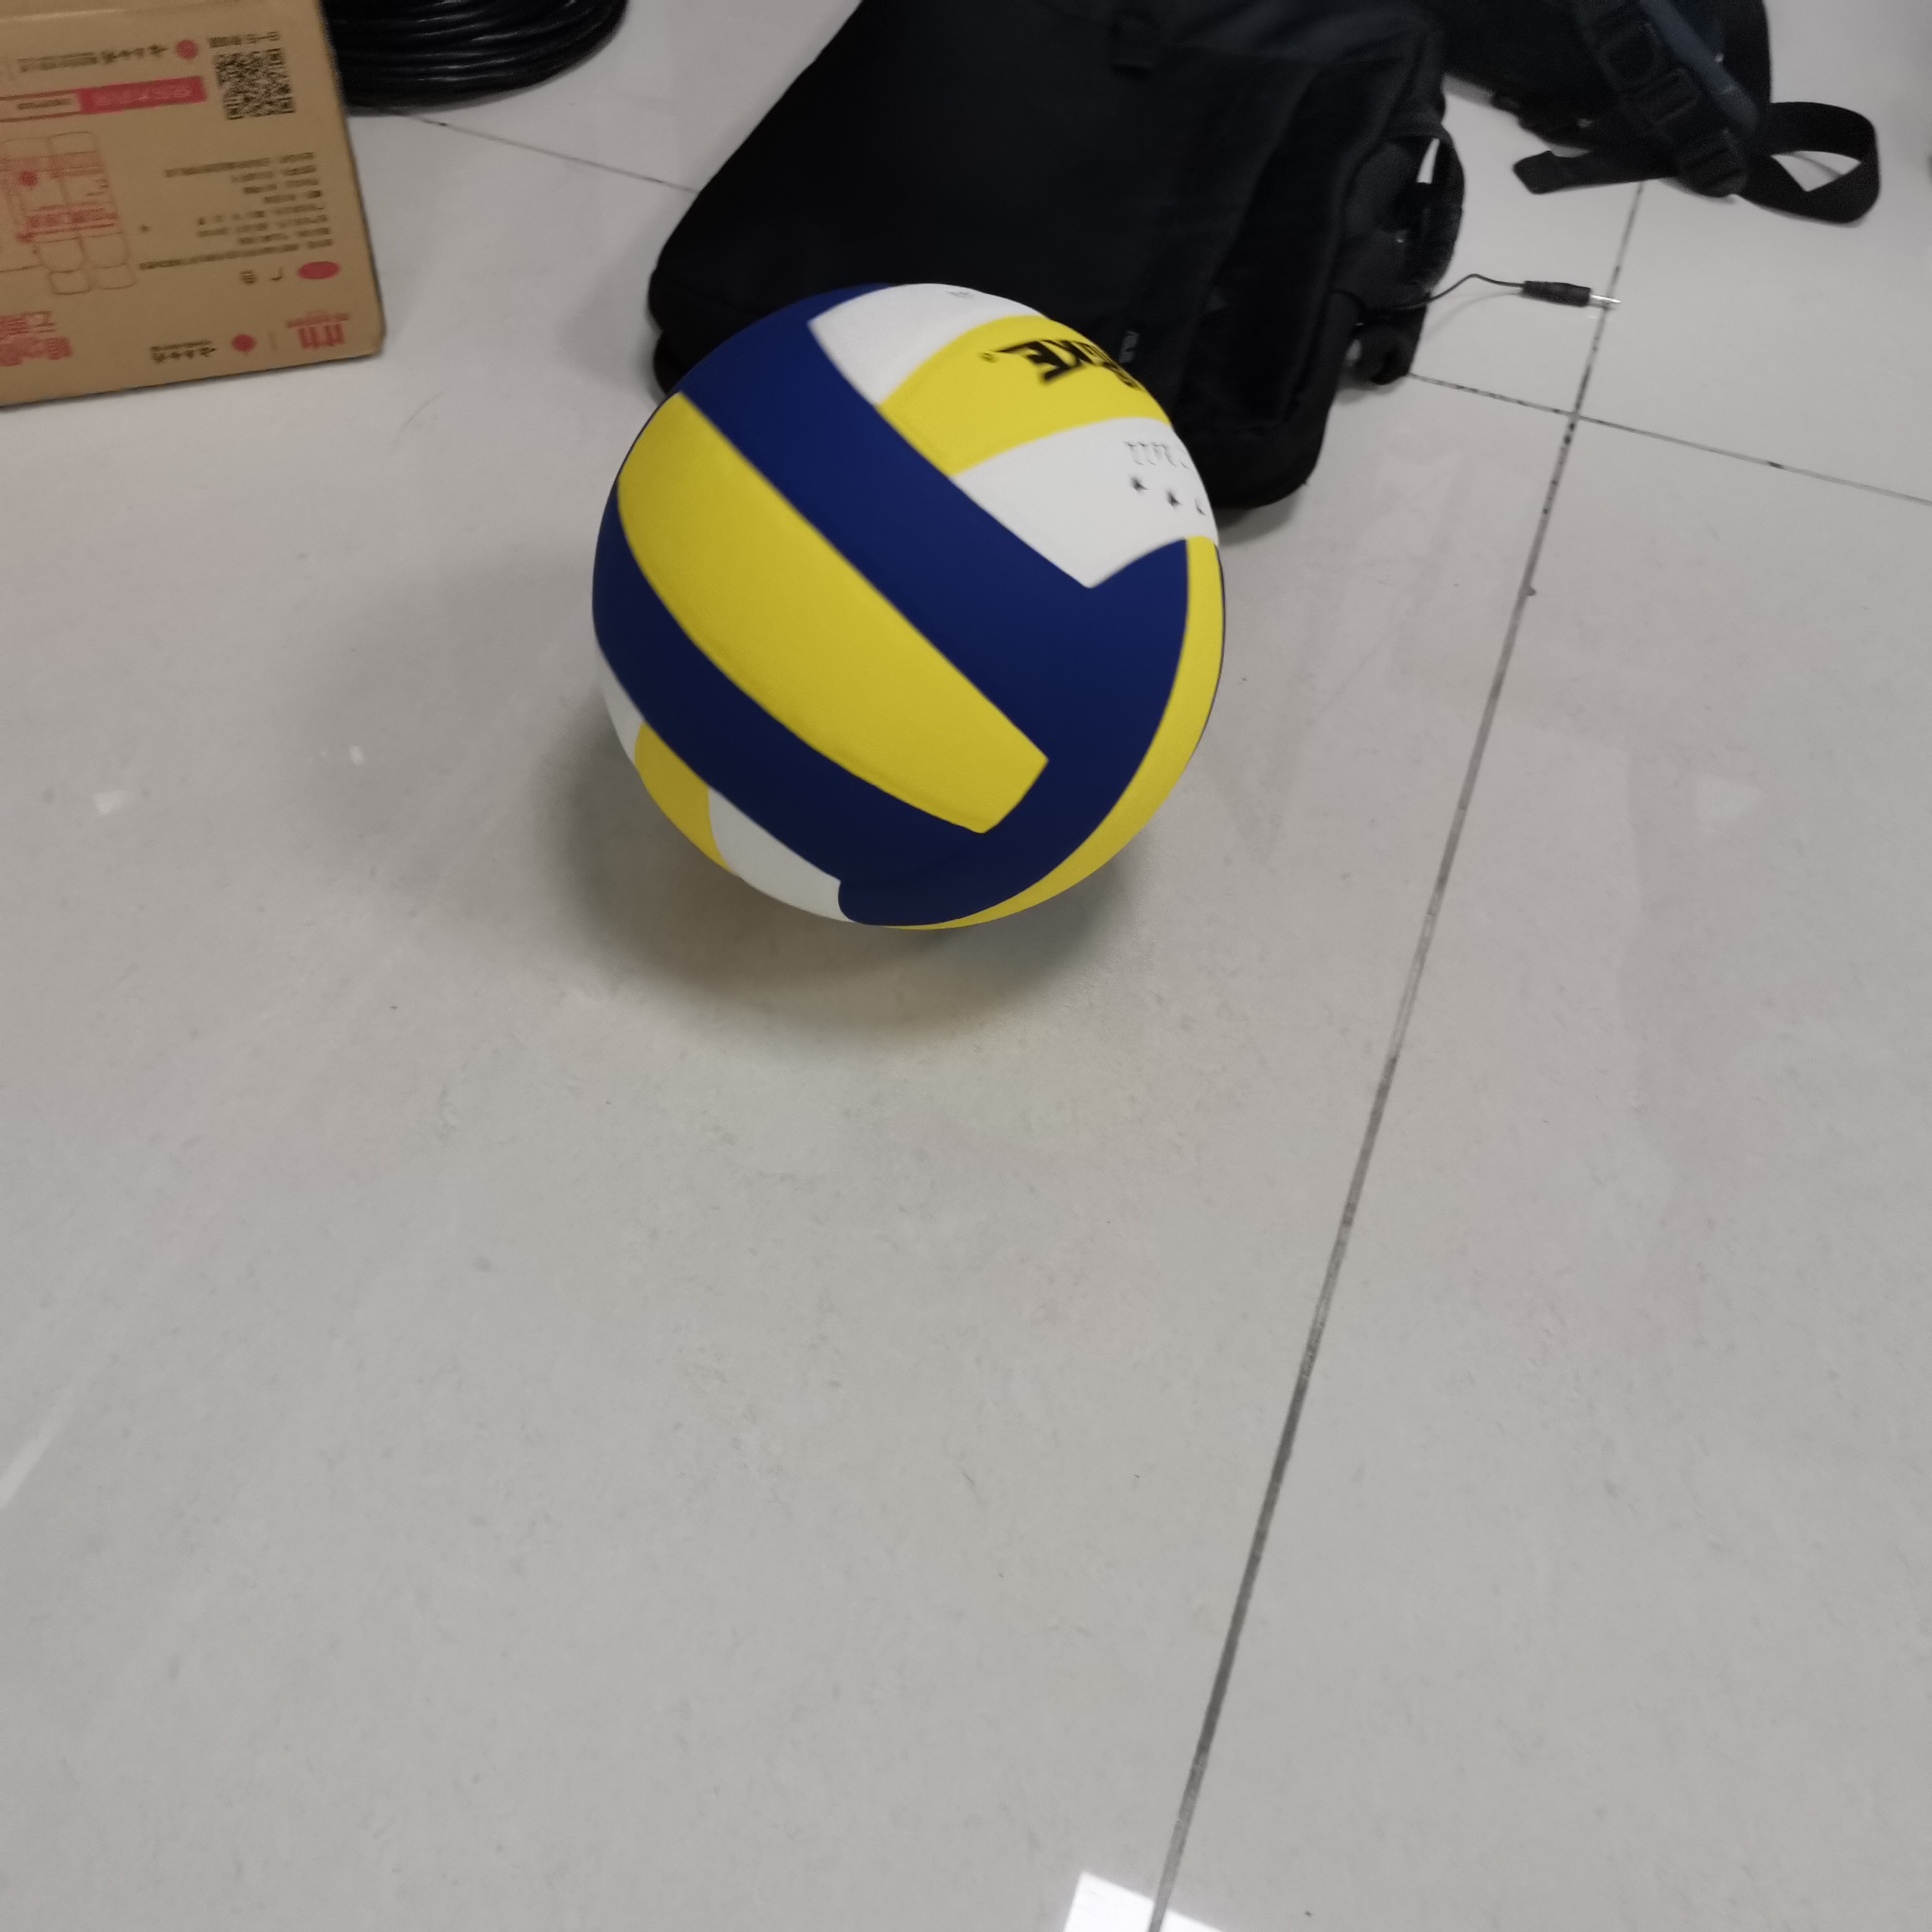volleyball: (591, 281, 1230, 931)
